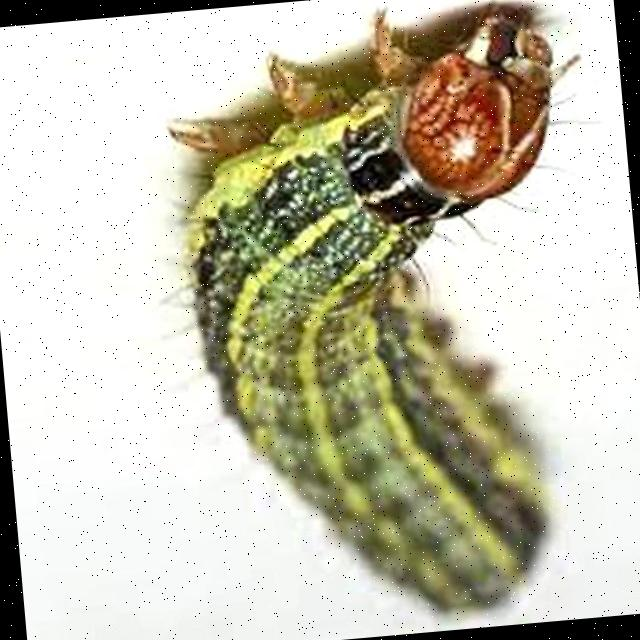worm: (154, 1, 632, 640)
